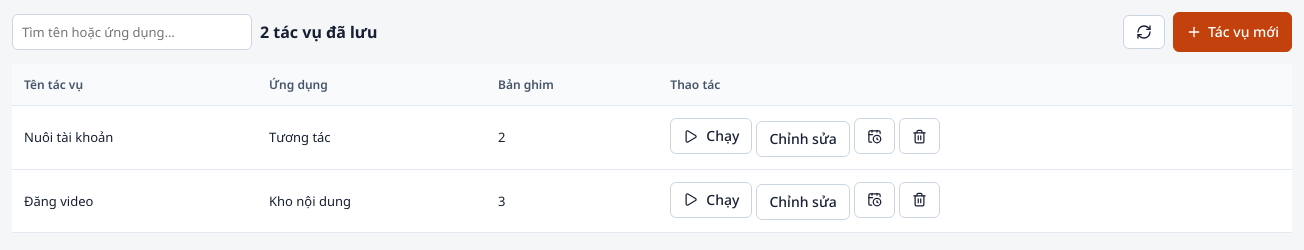
Test: lọc tác vụ theo tên hoặc ứng dụng, phân biệt không khớp với thư viện rỗng
Expected: the text "Nuôi tài khoản" is shown, left=12, top=106, right=257, bottom=169
In the search field named "Tìm tác vụ đã lưu": (132, 32) left=12, top=14, right=252, bottom=50, type "NUÔI"
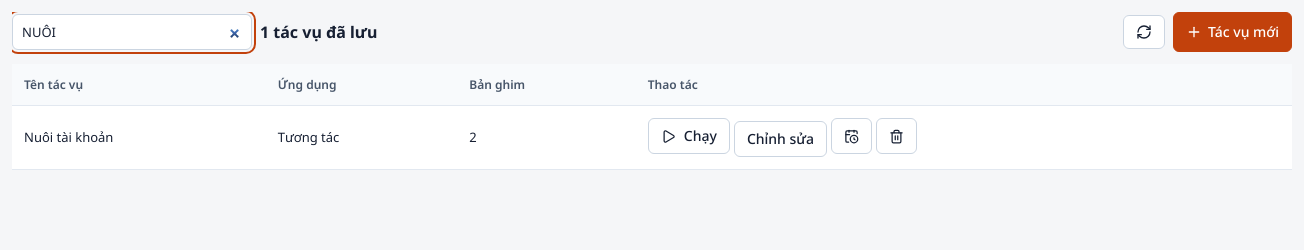
Expected: the text "Nuôi tài khoản" is shown, left=12, top=106, right=266, bottom=169
Now the text "Đăng video" is gone
Replace the text in the search field named "Tìm tác vụ đã lưu" with "kho nội dung": (132, 32) left=12, top=14, right=252, bottom=50
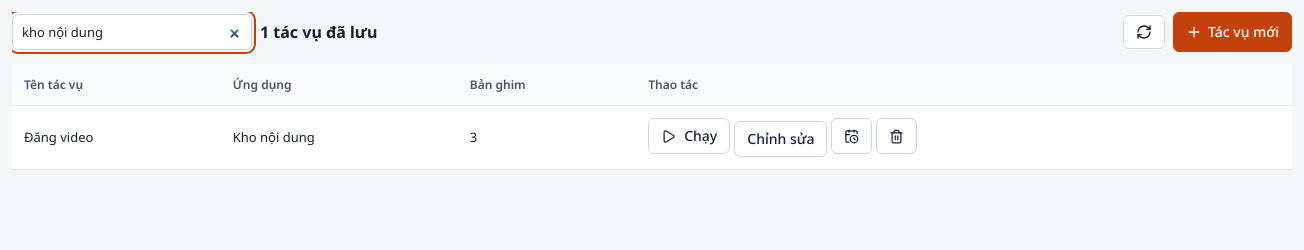
Now the text "Đăng video" is shown, box left=12, top=106, right=221, bottom=169
Now the text "Nuôi tài khoản" is gone
Replace the text in the search field named "Tìm tác vụ đã lưu" with "không-khớp": (132, 32) left=12, top=14, right=252, bottom=50
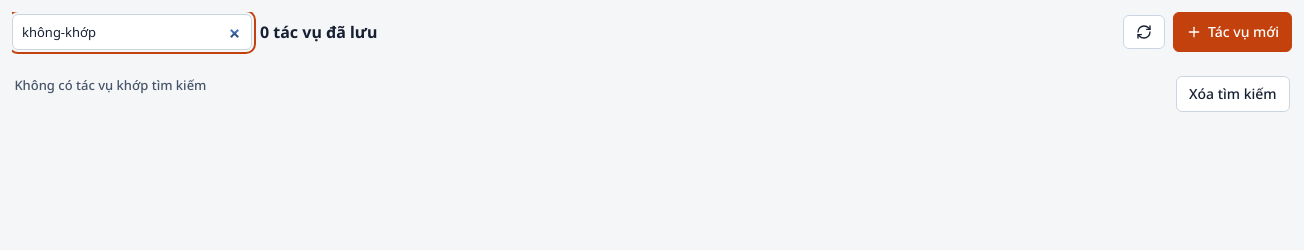
Now the text "Không có tác vụ khớp tìm kiếm" is shown, box left=14, top=76, right=206, bottom=94
Click the button "Xóa tìm kiếm": (1233, 94) left=1176, top=76, right=1290, bottom=112
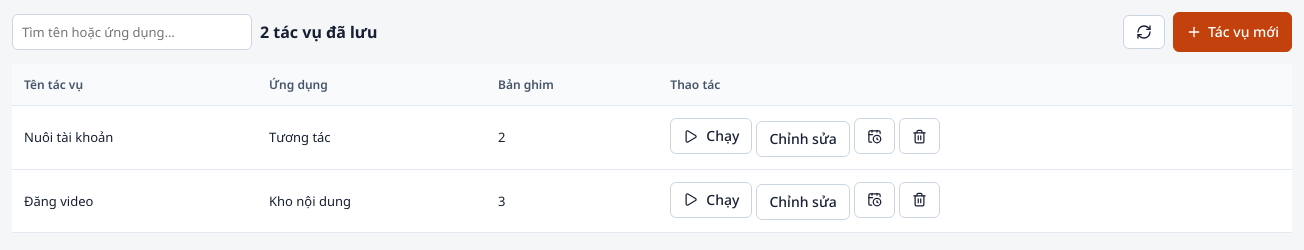
Now the text "Nuôi tài khoản" is shown, box left=12, top=106, right=257, bottom=169
Now the text "Đăng video" is shown, box left=12, top=169, right=257, bottom=233
